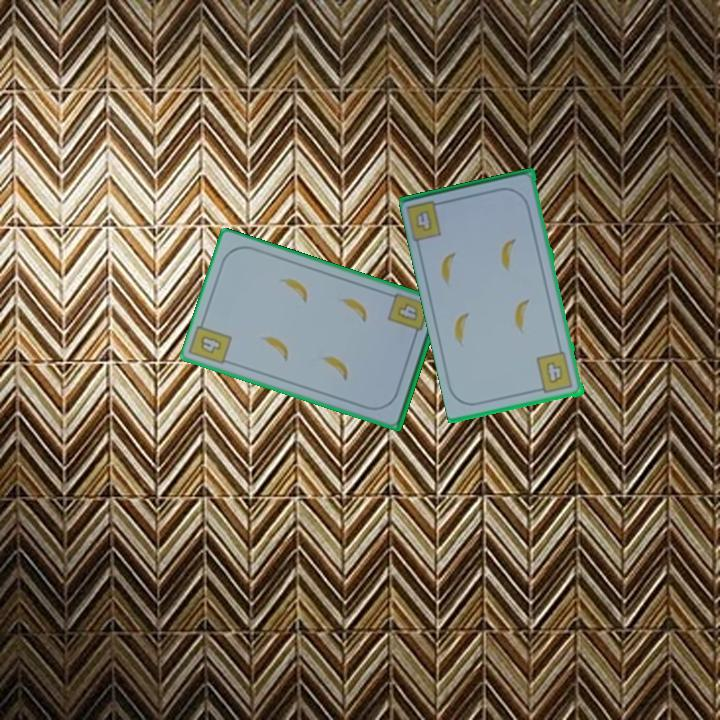4b: (385, 292, 432, 342), (405, 198, 449, 244), (533, 349, 576, 396), (196, 332, 224, 357)
